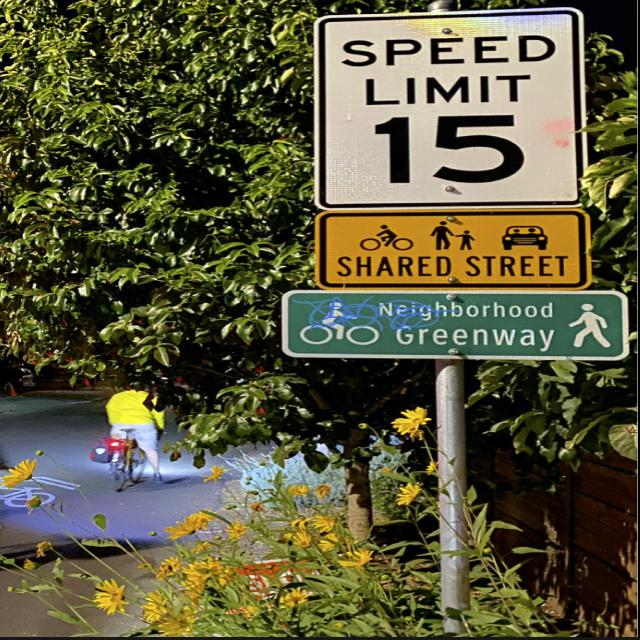speedLimit15: (319, 21, 587, 208)
